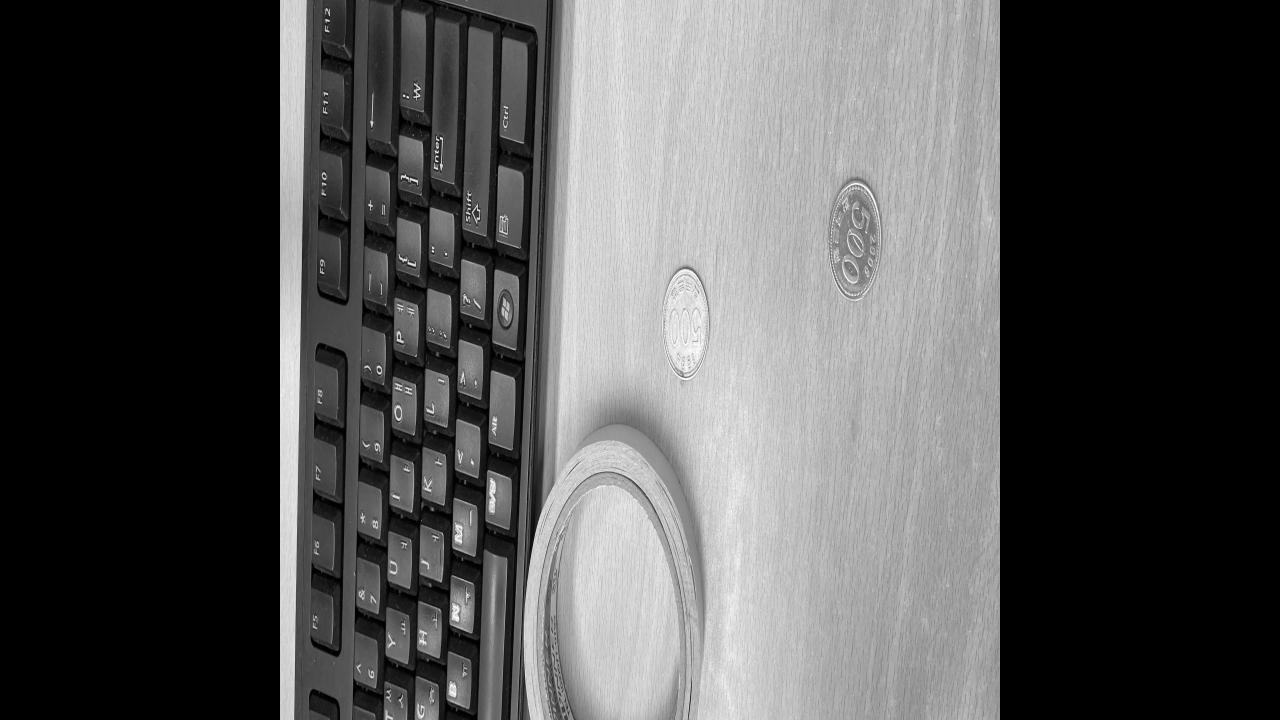coin: (828, 178, 882, 300), (664, 268, 709, 374)
